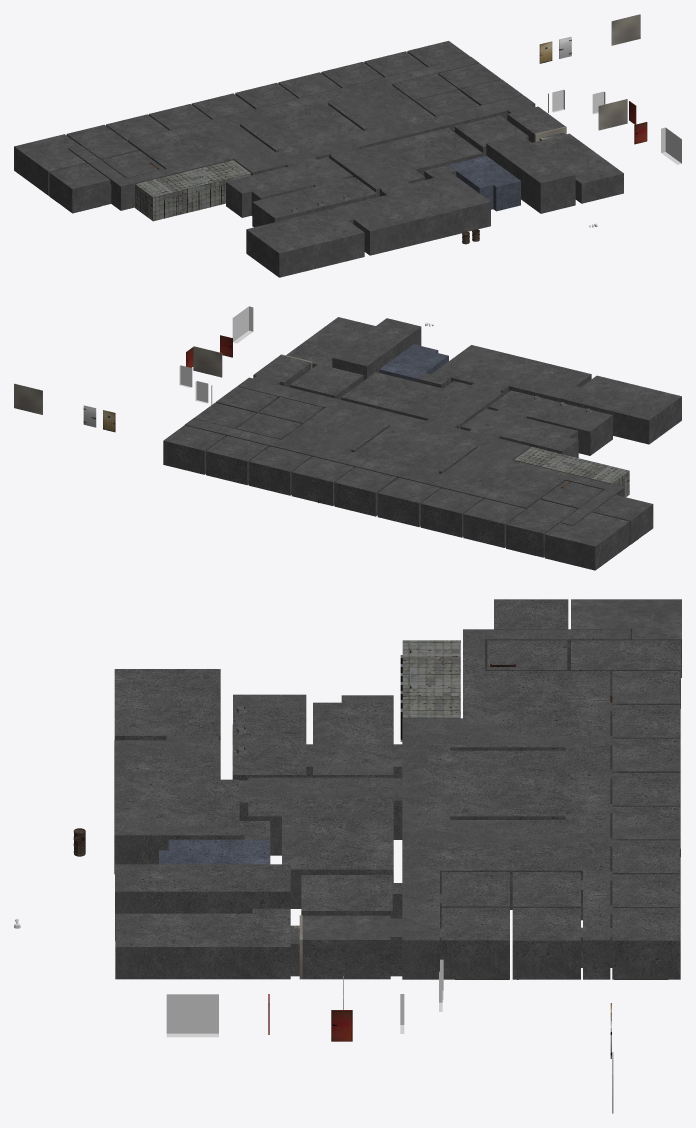
Rendered from mapgamejam.glb.
3 renders of one model, top to bottom at view 1: azimuth 30°, elevation 25°; view 2: azimuth 150°, elevation 25°; view 3: azimuth 270°, elevation 25°, orthographic. The views are drawn at different scales.
Visible parts, largest first — view 1: Cube.038, Cube.030, Cube.001, Cube.027, Cube.022, Cube.034, Cube.025, Cube.026, Cube.032, Cube.156, Cube.020, Cube.031 (+18 smaller); view 2: Cube.038, Cube.030, Cube.022, Cube.001, Cube.027, Cube.032, Cube.026, Cube.025, Cube.019, Cube.034, Cube.015, Cube.013 (+18 smaller); view 3: Cube.038, Cube.001, Cube.022, Cube.030, Cube.027, Cube.025, Cube.006, Cube.026, Cube.007, Cube.010, Cube.011, Cube.034 (+16 smaller).
Part boxes in pixels (x1,y1,x2,y2): Cube.038: (68, 56, 535, 210); Cube.030: (332, 165, 490, 255); Cube.001: (486, 133, 623, 213); Cube.027: (246, 208, 364, 277); Cube.022: (329, 128, 482, 197); Cube.034: (135, 160, 251, 221); Cube.025: (226, 157, 352, 217); Cube.026: (252, 177, 377, 227); Cube.032: (14, 134, 86, 195); Cube.156: (49, 163, 110, 213); Cube.020: (448, 155, 520, 211); Cube.031: (451, 115, 528, 156); Cube.038: (185, 377, 624, 525); Cube.030: (417, 345, 591, 402); Cube.022: (341, 372, 502, 428); Cube.001: (286, 317, 421, 380); Cube.027: (564, 375, 681, 444); Cube.032: (544, 512, 629, 570); Cube.026: (488, 390, 612, 455); Cube.025: (461, 408, 578, 457); Cube.019: (506, 499, 577, 557); Cube.034: (514, 447, 629, 497); Cube.015: (334, 467, 396, 516); Cube.013: (248, 446, 311, 495); Cube.038: (402, 629, 630, 979); Cube.001: (115, 864, 290, 979); Cube.022: (239, 777, 402, 908); Cube.030: (114, 736, 270, 874); Cube.027: (114, 669, 220, 740); Cube.025: (306, 695, 402, 778); Cube.006: (290, 915, 402, 979); Cube.026: (233, 694, 306, 780); Cube.007: (441, 907, 509, 979); Cube.010: (512, 908, 580, 979); Cube.011: (612, 908, 680, 979); Cube.034: (402, 640, 460, 718).
Size of the model in its own units: 117 by 5.76 by 69.37.
Materials: 33 (33 with a texture image).
